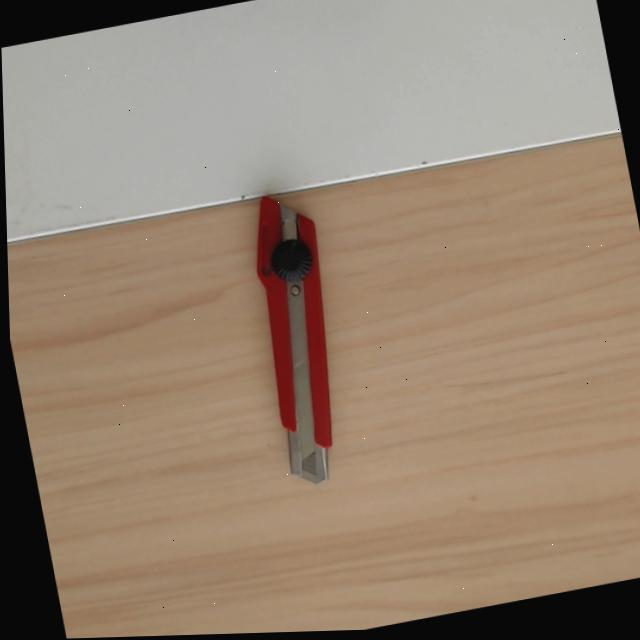Cutter-Besar: (245, 192, 340, 489)
